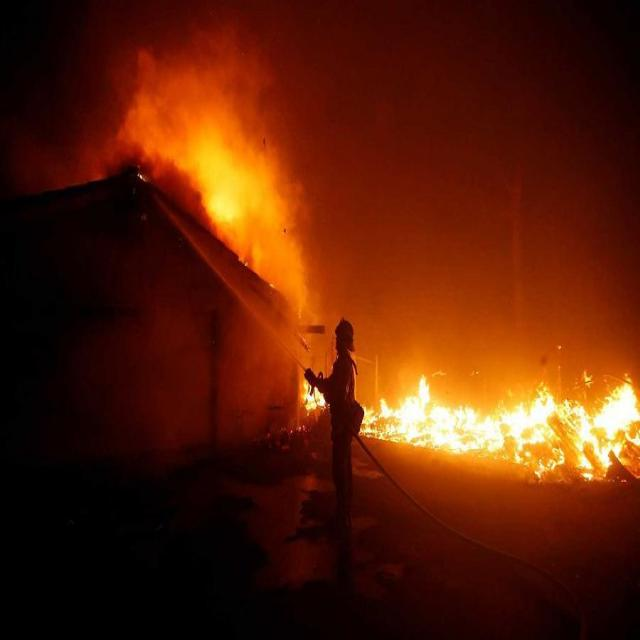Fire: (365, 367, 636, 479), (304, 384, 322, 409)
